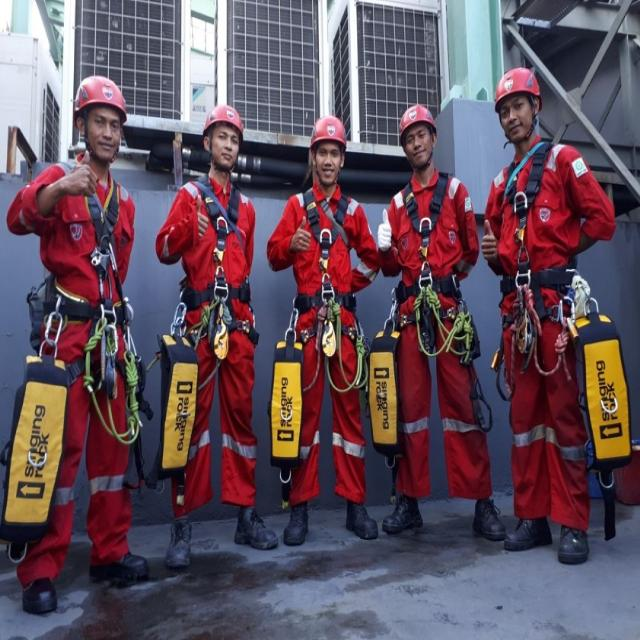shoes: (230, 506, 280, 556), (91, 550, 152, 590), (16, 574, 64, 618), (378, 500, 422, 545), (163, 514, 195, 572), (342, 500, 380, 545), (469, 500, 504, 543), (506, 519, 551, 552), (285, 504, 311, 552), (554, 532, 590, 566)
vest: (8, 155, 134, 570), (490, 140, 612, 527), (268, 186, 378, 510), (156, 181, 262, 514), (386, 165, 486, 499)
